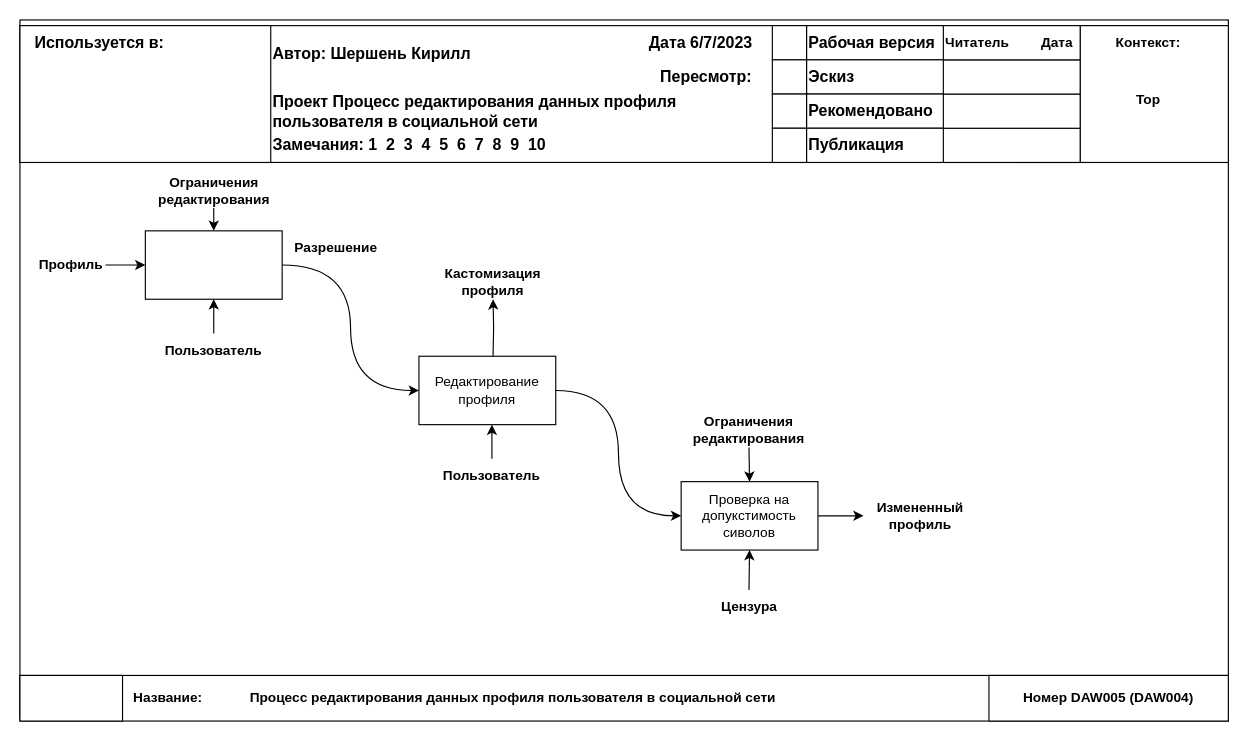
The diagram is 1248 pixels wide and 741 high, and some of its shapes have lost their labels. Here are the shapes that lost their labels. From the top down, the centre of each, then its label:
At pixel 213 264: "Проверка на разрешение редактирование профиля".
At pixel 71 697: "Узел".
